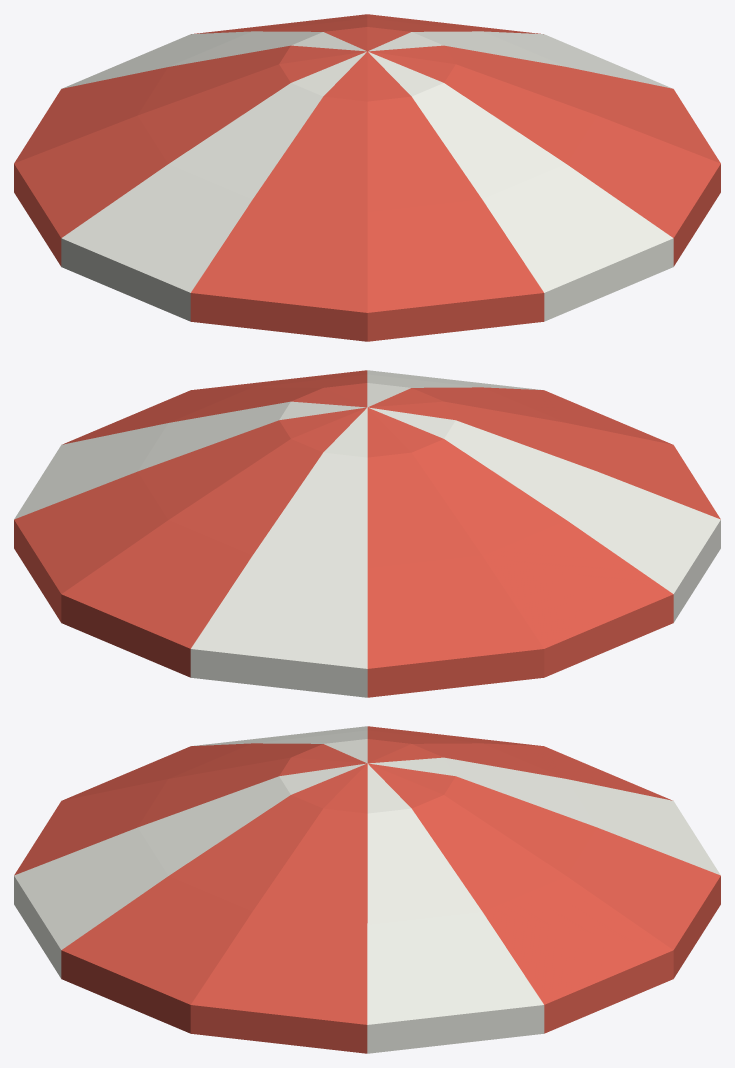
The model's file is Module_Umbrella_Canopy.fbx.
The picture shows the model from 3 angles, top to bottom: view 1: azimuth 30°, elevation 25°; view 2: azimuth 150°, elevation 25°; view 3: azimuth 270°, elevation 25°; orthographic projection.
Parts seen in each view (by area): view 1: Module_Umbrella_Canopy__LPCXFER; view 2: Module_Umbrella_Canopy__LPCXFER; view 3: Module_Umbrella_Canopy__LPCXFER.
Part boxes in pixels (left/top/right/bottom): Module_Umbrella_Canopy__LPCXFER: left=14, top=14, right=720, bottom=341; Module_Umbrella_Canopy__LPCXFER: left=14, top=370, right=720, bottom=697; Module_Umbrella_Canopy__LPCXFER: left=14, top=726, right=720, bottom=1053.
Size of the model in its own units: 200 by 44 by 200.
